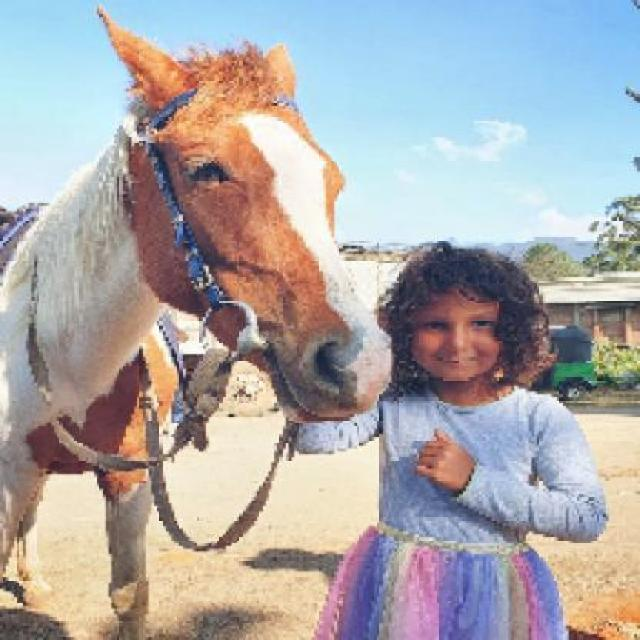child: (292, 240, 608, 637)
